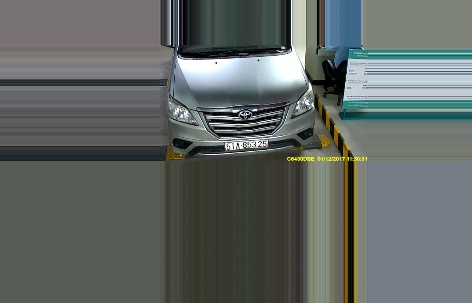plate: (225, 138, 268, 150)
